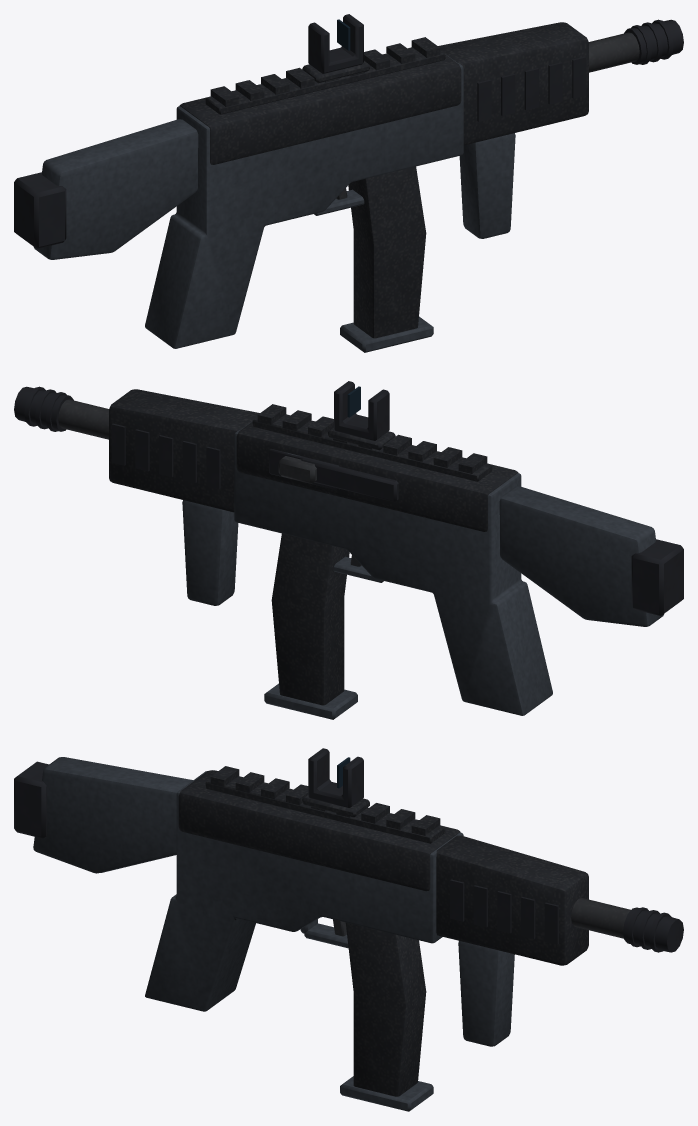
File: smg_r1.fbx
3 views of the same model, one above another, from view 1: azimuth 30°, elevation 25°; view 2: azimuth 150°, elevation 25°; view 3: azimuth 330°, elevation 25° (orthographic).
Visible parts, largest first — view 1: Body, Magazine; view 2: Body, Magazine, Bolt; view 3: Body, Magazine.
Part boxes in pixels (x1,y1,x2,y2): Body: (14, 14, 683, 348); Magazine: (340, 166, 433, 352); Body: (14, 381, 683, 715); Magazine: (264, 533, 357, 719); Bolt: (269, 449, 398, 501); Body: (14, 748, 683, 1046); Magazine: (340, 922, 433, 1111).
Size of the model in its own units: 6.05 by 2.89 by 0.65.
Materials: 1 (1 with a texture image).
